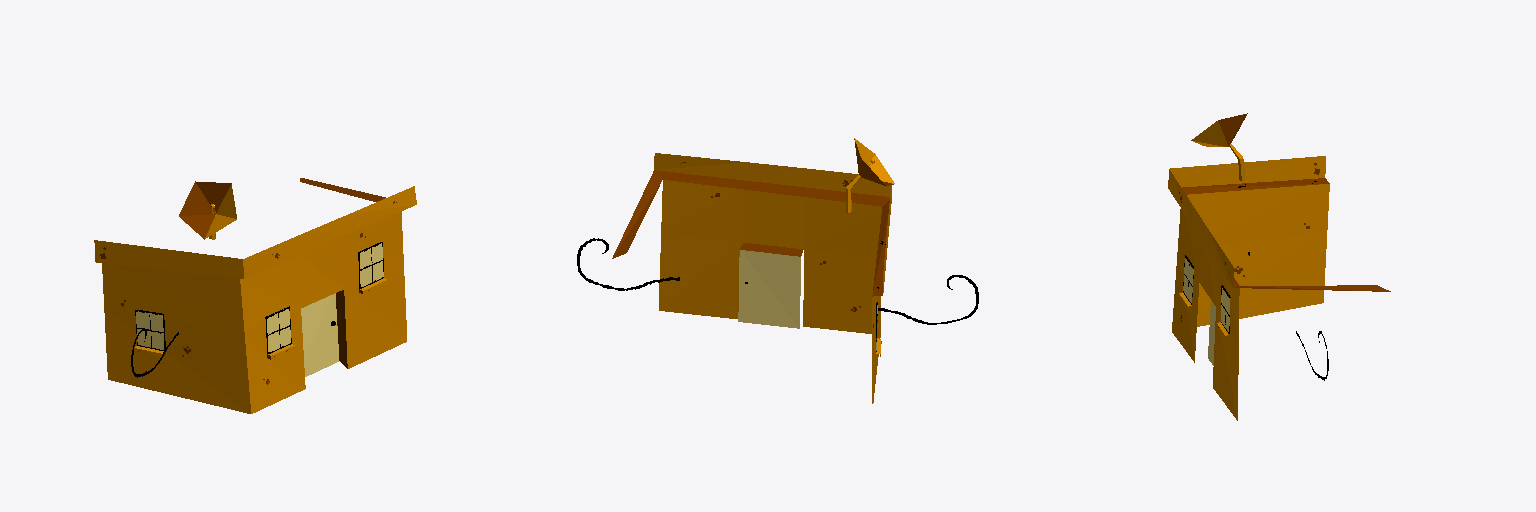
The picture shows the model from 3 angles: view 1: azimuth 30°, elevation 25°; view 2: azimuth 150°, elevation 25°; view 3: azimuth 270°, elevation 25°; orthographic projection.
Parts seen in each view (by area): view 1: house.001, satellite.001; view 2: house.001, satellite.001; view 3: house.001, satellite.001.
Part boxes in pixels (left/top/right/bottom): house.001: left=94, top=178, right=416, bottom=413; satellite.001: left=179, top=181, right=236, bottom=239; house.001: left=577, top=153, right=978, bottom=403; satellite.001: left=846, top=138, right=894, bottom=212; house.001: left=1168, top=156, right=1390, bottom=420; satellite.001: left=1191, top=113, right=1247, bottom=181.
Size of the model in its own units: 0.4818 by 0.2862 by 0.2666.
Materials: 1 (1 with a texture image).